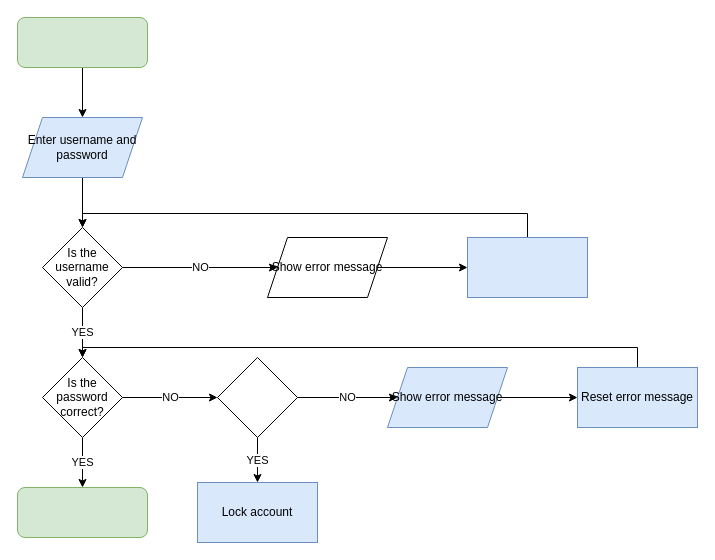
The diagram is 715 pixels wide and 560 high, and some of its shapes have lost their labels. Each missing label, with the centre of its shape:
END: the point at 82,512
Have 3 attempts been exceeded?: the point at 257,397
Increment attempts: the point at 527,267
START: the point at 82,42
